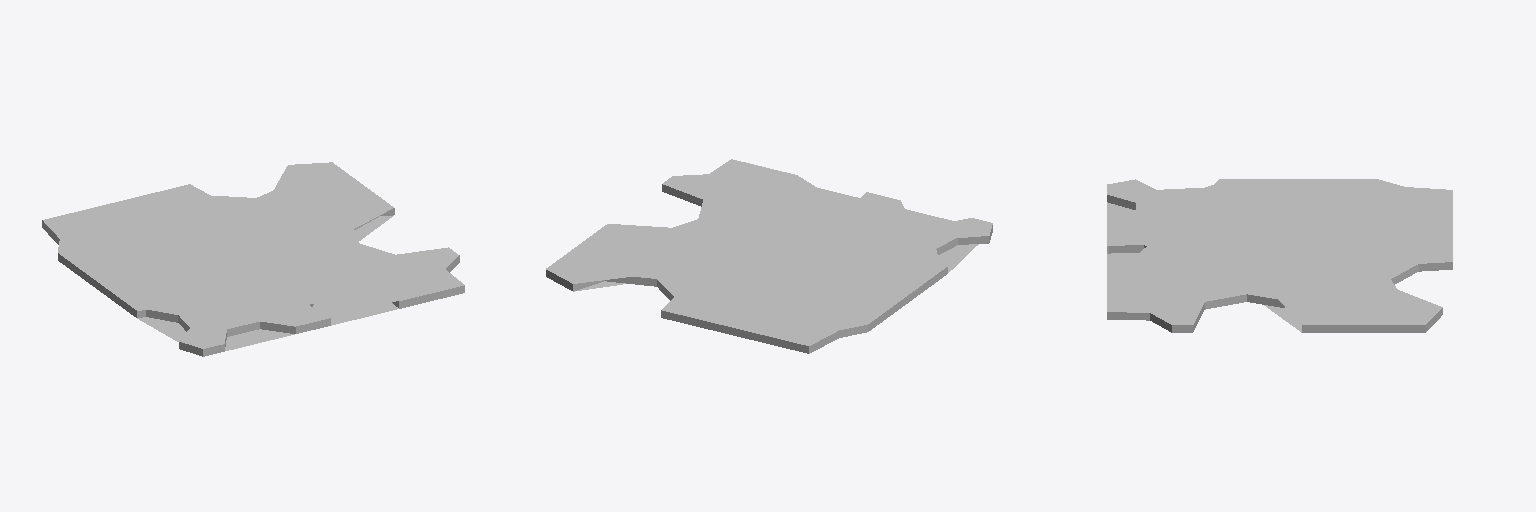
The model's file is Food_CheeseSlice.obj.
3 renders of one model, left to right at view 1: azimuth 30°, elevation 25°; view 2: azimuth 150°, elevation 25°; view 3: azimuth 270°, elevation 25°, orthographic.
Parts seen in each view (by area): view 1: Food_CheeseSlice; view 2: Food_CheeseSlice; view 3: Food_CheeseSlice.
Part boxes in pixels (x1,y1,x2,y2): Food_CheeseSlice: (42, 162, 464, 356); Food_CheeseSlice: (546, 159, 992, 353); Food_CheeseSlice: (1107, 179, 1452, 332).
Size of the model in its own units: 0.1855 by 0.0046 by 0.1855.